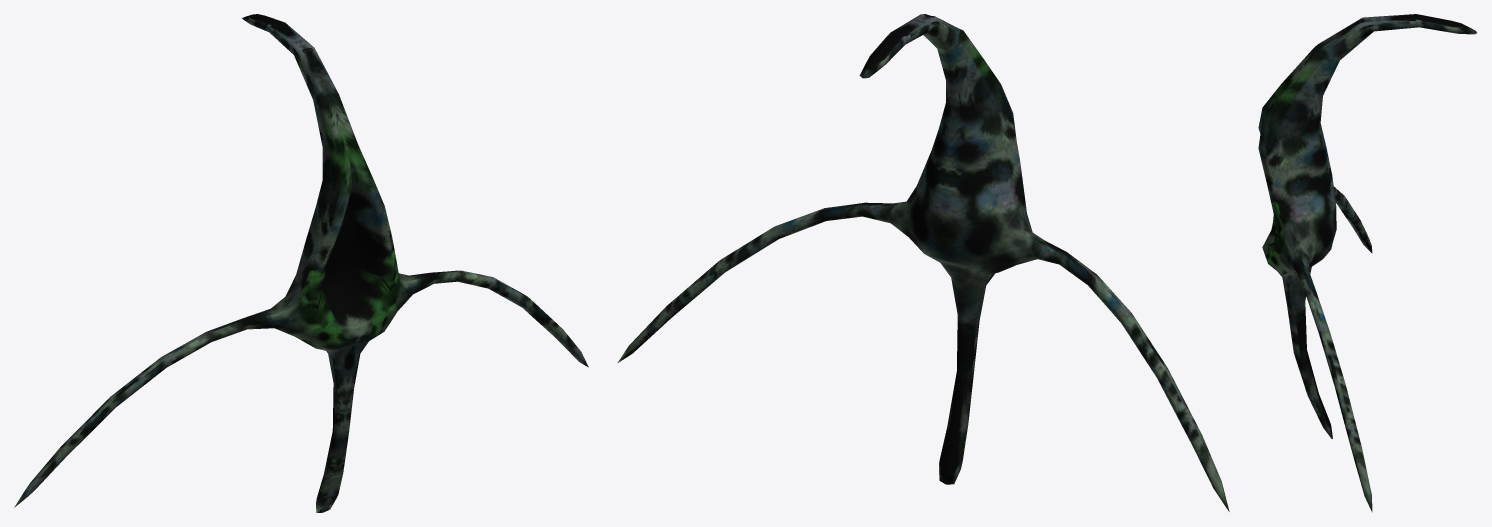
File: Pupa.glb
3 renders of one model, left to right at view 1: azimuth 30°, elevation 25°; view 2: azimuth 150°, elevation 25°; view 3: azimuth 270°, elevation 25°, orthographic. The views are drawn at different scales.
Parts seen in each view (by area): view 1: Cube; view 2: Cube; view 3: Cube.
Part boxes in pixels (<box>): Cube: <box>14,14,588,512</box>; Cube: <box>617,14,1229,511</box>; Cube: <box>1258,14,1476,512</box>.
Bounding box in the file's own units: 24.2 × 18.35 × 8.64.
1 material, 1 textured.
